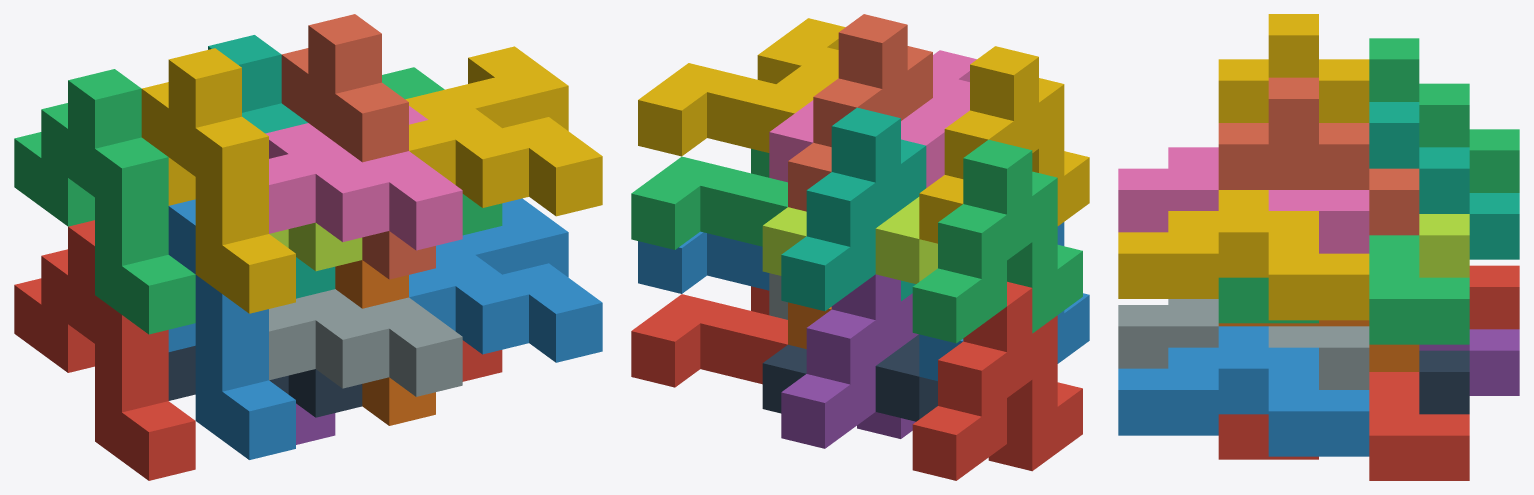
The model's file is tiling.obj.
3 views of the same model, side by side, from view 1: azimuth 30°, elevation 25°; view 2: azimuth 150°, elevation 25°; view 3: azimuth 270°, elevation 25° (orthographic). The views are drawn at different scales.
Parts seen in each view (by area): view 1: copy_1_domain_3, copy_1_domain_4, copy_2_domain_8, copy_1_domain_1, copy_2_domain_6, copy_2_domain_4, copy_2_domain_2, copy_1_domain_8, copy_1_domain_2, copy_1_domain_7, copy_1_domain_6, copy_2_domain_1 (+4 smaller); view 2: copy_1_domain_3, copy_1_domain_1, copy_1_domain_7, copy_2_domain_8, copy_1_domain_5, copy_1_domain_4, copy_1_domain_8, copy_2_domain_7, copy_2_domain_5, copy_2_domain_4, copy_2_domain_1, copy_2_domain_3 (+4 smaller); view 3: copy_2_domain_6, copy_2_domain_8, copy_1_domain_8, copy_2_domain_7, copy_2_domain_5, copy_2_domain_4, copy_1_domain_7, copy_2_domain_2, copy_1_domain_3, copy_1_domain_4, copy_1_domain_5, copy_2_domain_1 (+3 smaller).
Boxes of the visible parts, x1=… form: copy_1_domain_3: x1=14, y1=69, x2=195, y2=334; copy_1_domain_4: x1=141, y1=48, x2=295, y2=313; copy_2_domain_8: x1=405, y1=46, x2=602, y2=216; copy_1_domain_1: x1=14, y1=220, x2=195, y2=480; copy_2_domain_6: x1=409, y1=198, x2=602, y2=362; copy_2_domain_4: x1=265, y1=106, x2=462, y2=250; copy_2_domain_2: x1=269, y1=289, x2=462, y2=396; copy_1_domain_8: x1=281, y1=14, x2=435, y2=279; copy_1_domain_2: x1=168, y1=199, x2=295, y2=459; copy_1_domain_7: x1=208, y1=35, x2=335, y2=298; copy_1_domain_6: x1=335, y1=260, x2=435, y2=425; copy_2_domain_1: x1=168, y1=345, x2=362, y2=417; copy_1_domain_3: x1=912, y1=139, x2=1082, y2=343; copy_1_domain_1: x1=912, y1=281, x2=1082, y2=480; copy_1_domain_7: x1=781, y1=107, x2=926, y2=311; copy_2_domain_8: x1=638, y1=18, x2=845, y2=156; copy_1_domain_5: x1=781, y1=274, x2=918, y2=448; copy_1_domain_4: x1=919, y1=46, x2=1089, y2=243; copy_1_domain_8: x1=788, y1=14, x2=932, y2=211; copy_2_domain_7: x1=631, y1=148, x2=787, y2=249; copy_2_domain_5: x1=631, y1=286, x2=787, y2=387; copy_2_domain_4: x1=769, y1=50, x2=976, y2=187; copy_2_domain_1: x1=762, y1=334, x2=937, y2=421; copy_2_domain_3: x1=762, y1=197, x2=937, y2=283; copy_2_domain_6: x1=1118, y1=326, x2=1369, y2=456; copy_2_domain_8: x1=1118, y1=190, x2=1369, y2=320; copy_1_domain_8: x1=1218, y1=77, x2=1419, y2=235; copy_2_domain_7: x1=1218, y1=235, x2=1469, y2=344; copy_2_domain_5: x1=1218, y1=372, x2=1469, y2=480; copy_2_domain_4: x1=1118, y1=147, x2=1369, y2=253; copy_1_domain_7: x1=1369, y1=102, x2=1519, y2=259; copy_2_domain_2: x1=1118, y1=299, x2=1369, y2=389; copy_1_domain_3: x1=1369, y1=38, x2=1519, y2=192; copy_1_domain_4: x1=1218, y1=14, x2=1369, y2=122; copy_1_domain_5: x1=1419, y1=329, x2=1519, y2=395; copy_2_domain_1: x1=1419, y1=350, x2=1469, y2=414.
Size of the model in its own units: 9 by 8 by 8.
